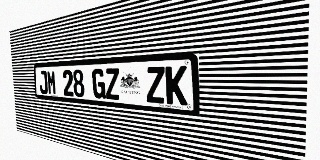2: (62, 70, 74, 96)
8: (73, 69, 85, 97)
G: (92, 68, 106, 99)
J: (39, 71, 48, 94)
K: (165, 66, 187, 106)
M: (47, 70, 57, 95)
Z: (146, 66, 165, 104), (105, 68, 120, 100)
